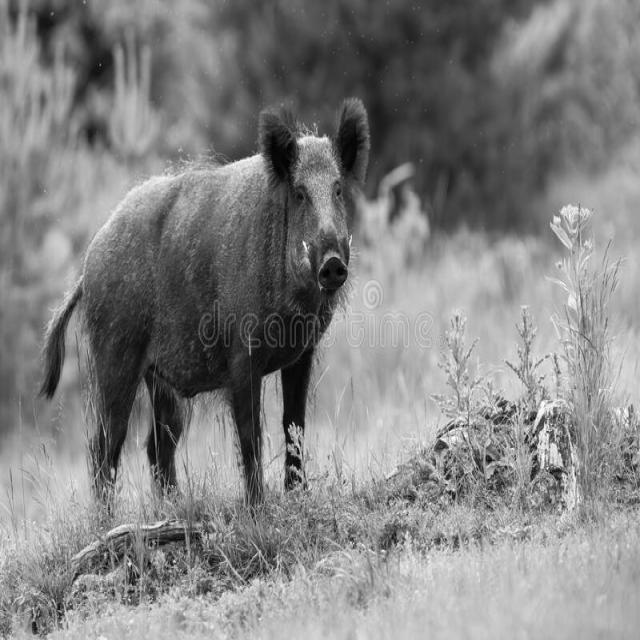boar: (38, 97, 368, 503)
